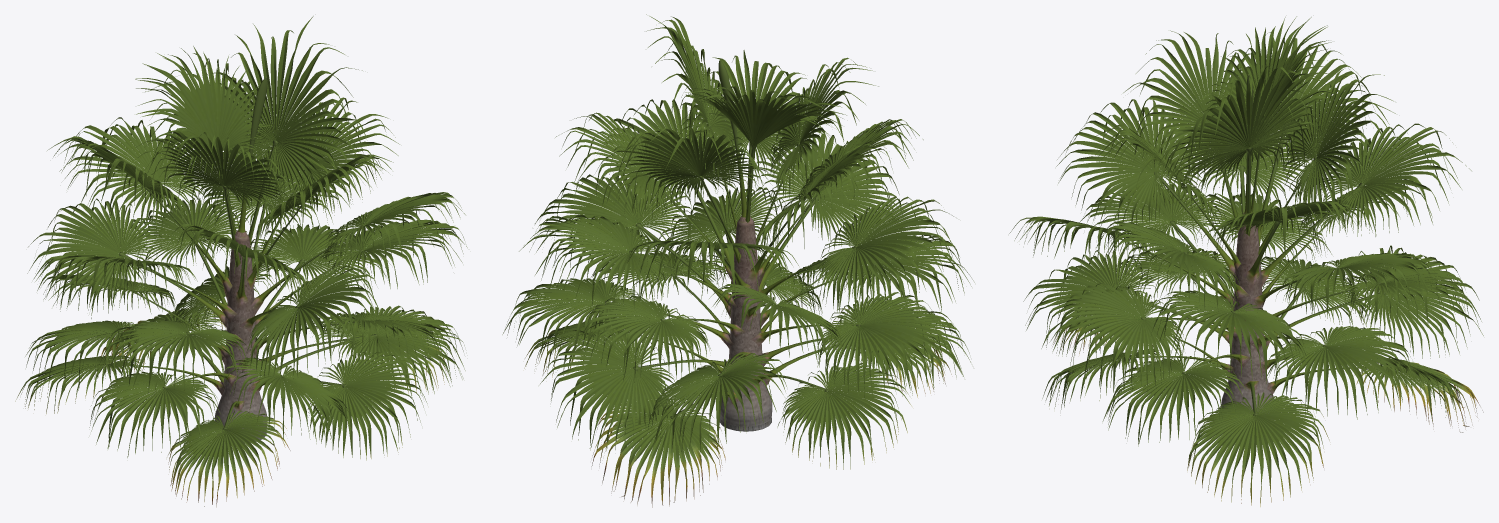
The model's file is palmier-eventail.glb.
3 renders of one model, left to right at view 1: azimuth 30°, elevation 25°; view 2: azimuth 150°, elevation 25°; view 3: azimuth 270°, elevation 25°, orthographic. The views are drawn at different scales.
Visible parts, largest first — view 1: Washingtonia_filifera_HD_Wash leaf 02_0, Washingtonia_filifera_HD_Wash leaf 01_0, Washingtonia_filifera_HD_Wash leaf 03_0, Washingtonia_filifera_HD_Wash leaf stalk 01_0, Washingtonia_filifera_HD_Wahsingtonia crownshaft_0; view 2: Washingtonia_filifera_HD_Wash leaf 02_0, Washingtonia_filifera_HD_Wash leaf 01_0, Washingtonia_filifera_HD_Wash leaf 03_0, Washingtonia_filifera_HD_Wash leaf stalk 01_0, Washingtonia_filifera_HD_Wahsingtonia crownshaft_0; view 3: Washingtonia_filifera_HD_Wash leaf 02_0, Washingtonia_filifera_HD_Wash leaf 01_0, Washingtonia_filifera_HD_Wash leaf 03_0, Washingtonia_filifera_HD_Wash leaf stalk 01_0, Washingtonia_filifera_HD_Wahsingtonia crownshaft_0.
Boxes of the visible parts, x1=… form: Washingtonia_filifera_HD_Wash leaf 02_0: x1=15, y1=35, x2=467, y2=507; Washingtonia_filifera_HD_Wash leaf 01_0: x1=25, y1=16, x2=465, y2=501; Washingtonia_filifera_HD_Wash leaf 03_0: x1=28, y1=30, x2=463, y2=506; Washingtonia_filifera_HD_Wash leaf stalk 01_0: x1=105, y1=77, x2=377, y2=429; Washingtonia_filifera_HD_Wahsingtonia crownshaft_0: x1=214, y1=230, x2=266, y2=437; Washingtonia_filifera_HD_Wash leaf 02_0: x1=502, y1=16, x2=970, y2=506; Washingtonia_filifera_HD_Wash leaf 01_0: x1=519, y1=14, x2=971, y2=507; Washingtonia_filifera_HD_Wash leaf 03_0: x1=507, y1=36, x2=974, y2=505; Washingtonia_filifera_HD_Wash leaf stalk 01_0: x1=605, y1=60, x2=875, y2=418; Washingtonia_filifera_HD_Wahsingtonia crownshaft_0: x1=720, y1=216, x2=772, y2=426; Washingtonia_filifera_HD_Wash leaf 02_0: x1=1009, y1=16, x2=1483, y2=506; Washingtonia_filifera_HD_Wash leaf 01_0: x1=1020, y1=17, x2=1483, y2=490; Washingtonia_filifera_HD_Wash leaf 03_0: x1=1028, y1=26, x2=1472, y2=502; Washingtonia_filifera_HD_Wash leaf stalk 01_0: x1=1117, y1=74, x2=1391, y2=415; Washingtonia_filifera_HD_Wahsingtonia crownshaft_0: x1=1221, y1=212, x2=1274, y2=413.
Size of the model in its own units: 4.17 by 3.76 by 4.1.
6 materials, 6 textured.
